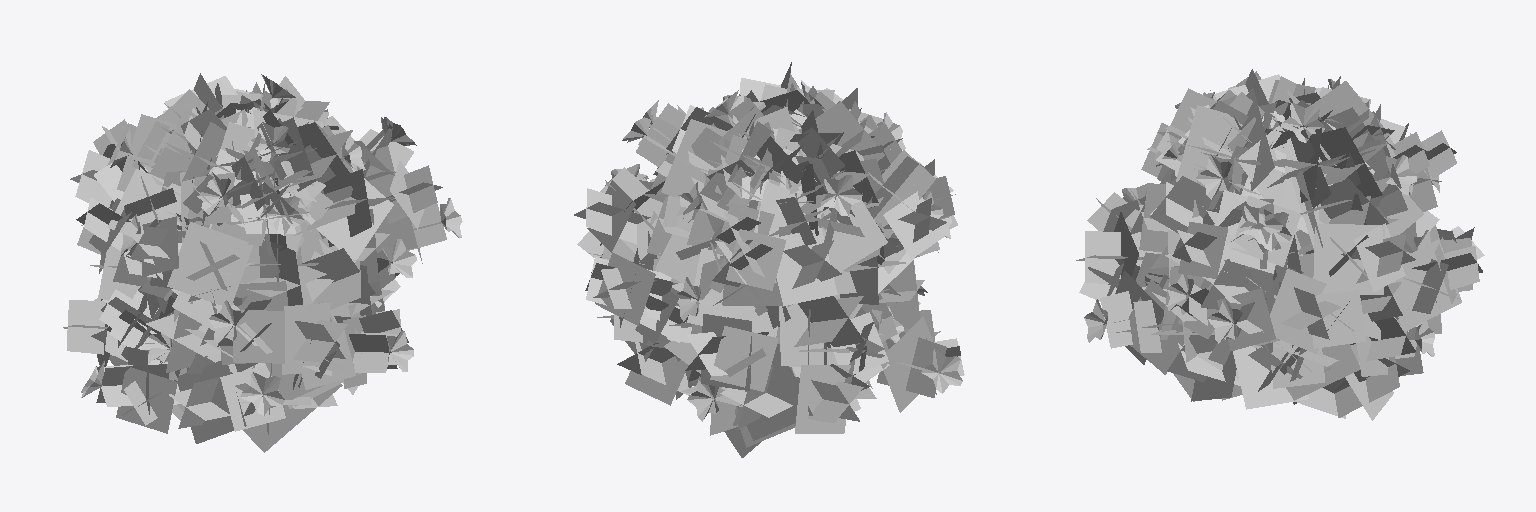
File: Bush_Large_Flowers.obj
3 views of the same model, side by side, from view 1: azimuth 30°, elevation 25°; view 2: azimuth 150°, elevation 25°; view 3: azimuth 270°, elevation 25° (orthographic).
Parts seen in each view (by area): view 1: Bush_Large_Flowers; view 2: Bush_Large_Flowers; view 3: Bush_Large_Flowers.
Part boxes in pixels (bbox=[...]): Bush_Large_Flowers: bbox=[63, 73, 462, 452]; Bush_Large_Flowers: bbox=[574, 62, 964, 457]; Bush_Large_Flowers: bbox=[1076, 69, 1484, 420].
Bounding box in the file's own units: 3.8 × 3.26 × 3.67.